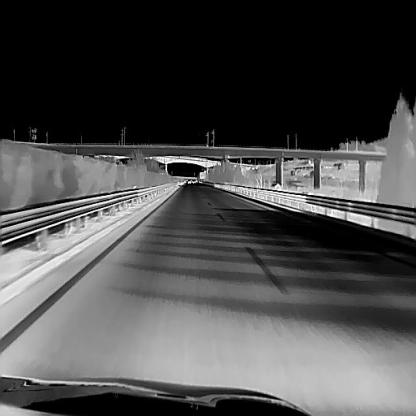car: (186, 177, 191, 183)
